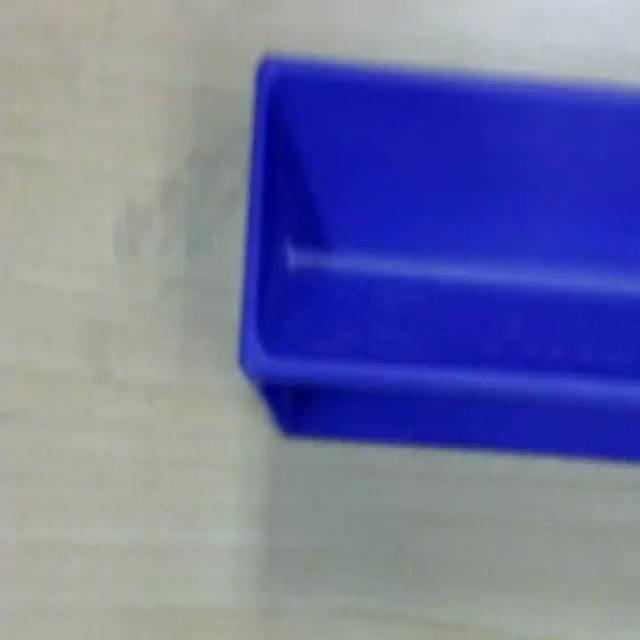blue_block: (236, 48, 638, 463)
